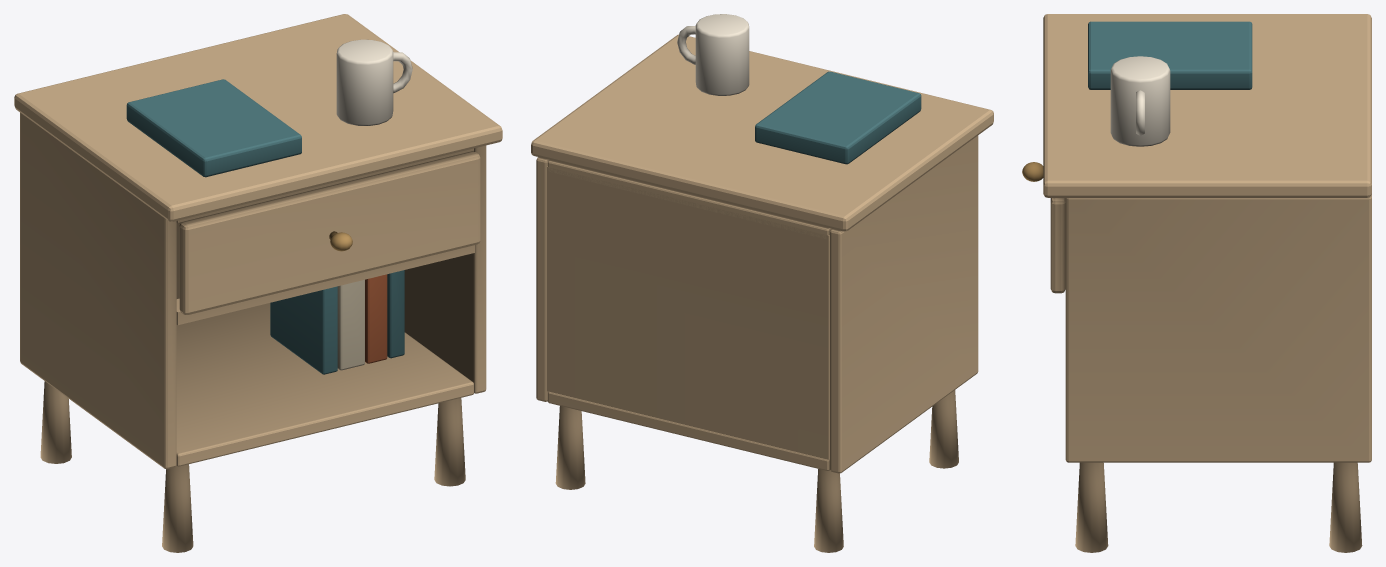
Rendered from nightstand.glb.
The picture shows the model from 3 angles, left to right: view 1: azimuth 30°, elevation 25°; view 2: azimuth 150°, elevation 25°; view 3: azimuth 270°, elevation 25°; orthographic projection. The views are drawn at different scales.
Visible parts, largest first — view 1: nightstand; view 2: nightstand; view 3: nightstand.
Boxes of the visible parts, <box> form: nightstand: <box>14,14,502,552</box>; nightstand: <box>531,14,993,552</box>; nightstand: <box>1022,14,1371,552</box>.
Size of the model in its own units: 0.54 by 0.66 by 0.4684.
